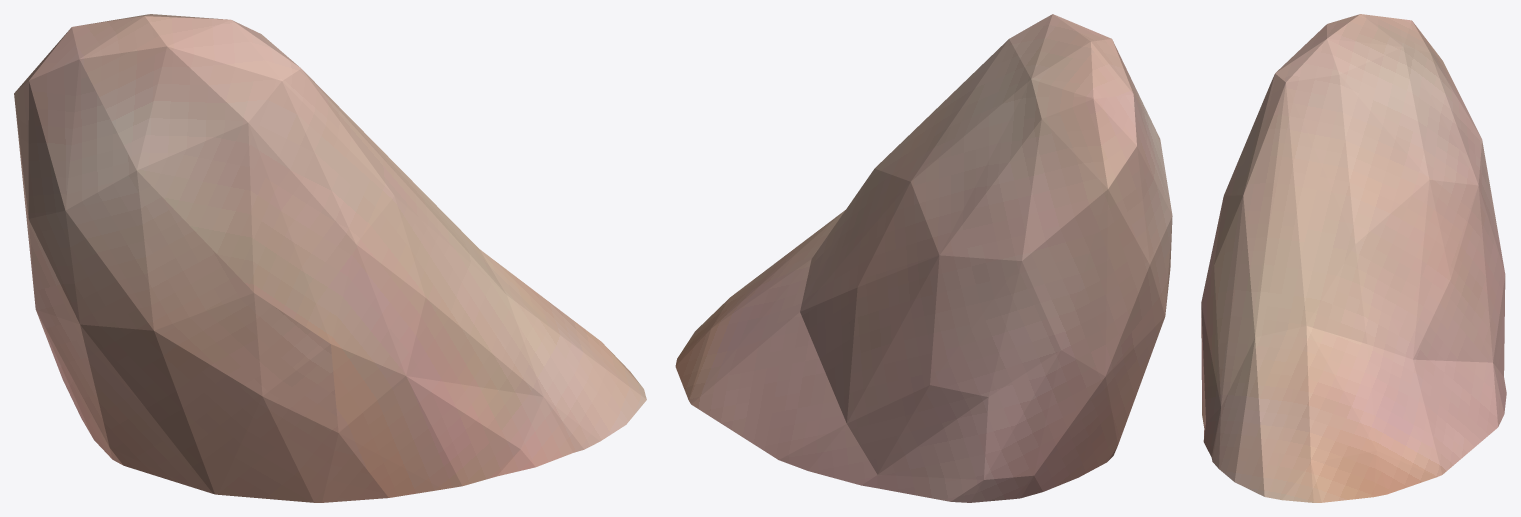
The picture shows the model from 3 angles, left to right: view 1: azimuth 30°, elevation 25°; view 2: azimuth 150°, elevation 25°; view 3: azimuth 270°, elevation 25°; orthographic projection. The views are drawn at different scales.
Size of the model in its own units: 18.25 by 14.2 by 12.07.
Materials: 1 (1 with a texture image).
